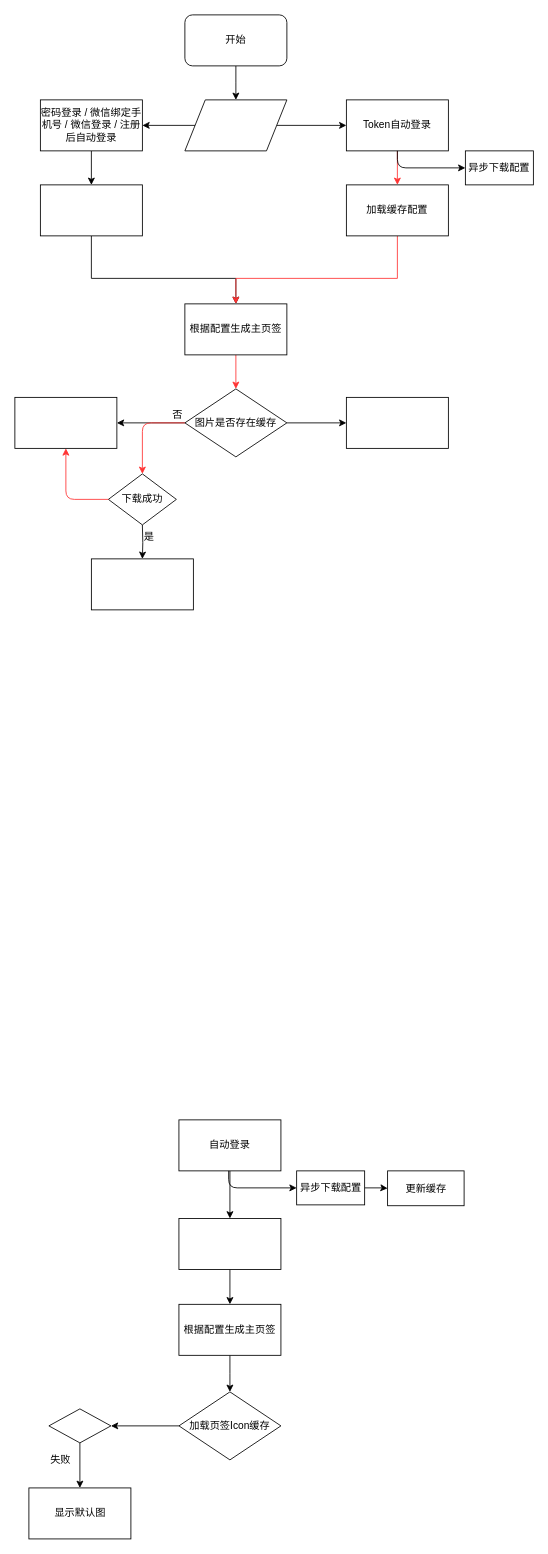
Some shapes in this 548 by 1554 pixel diagram are drawn without their labels. Each missing label, with the centre of its shape:
下载: (x=79, y=1425)
下载最新配置: (x=91, y=210)
刷新图标: (x=142, y=584)
加载配置缓存: (x=229, y=1243)
显示缓存: (x=397, y=422)
显示默认图片: (x=65, y=422)
选择登录方式: (x=235, y=125)
